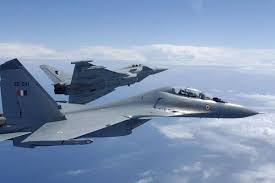maybay_muctieu: (1, 60, 264, 146), (41, 52, 166, 102)
